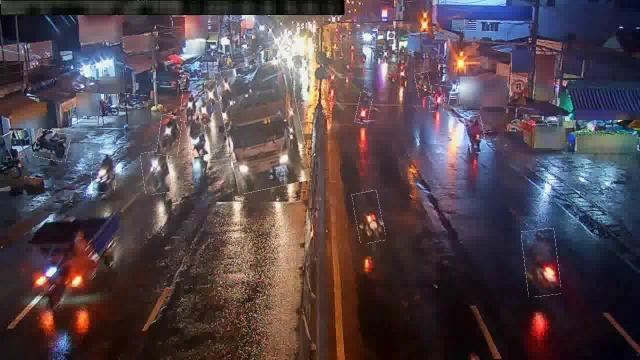Bike: (524, 229, 560, 297), (354, 191, 384, 243), (141, 150, 171, 194), (34, 130, 70, 162), (91, 152, 117, 192), (158, 115, 182, 156), (187, 115, 209, 157), (465, 116, 485, 152), (180, 90, 198, 122), (356, 92, 372, 124), (430, 84, 446, 111), (416, 72, 432, 98), (120, 94, 148, 108), (199, 97, 213, 125), (206, 80, 218, 102)
Truck: (220, 61, 306, 191)
